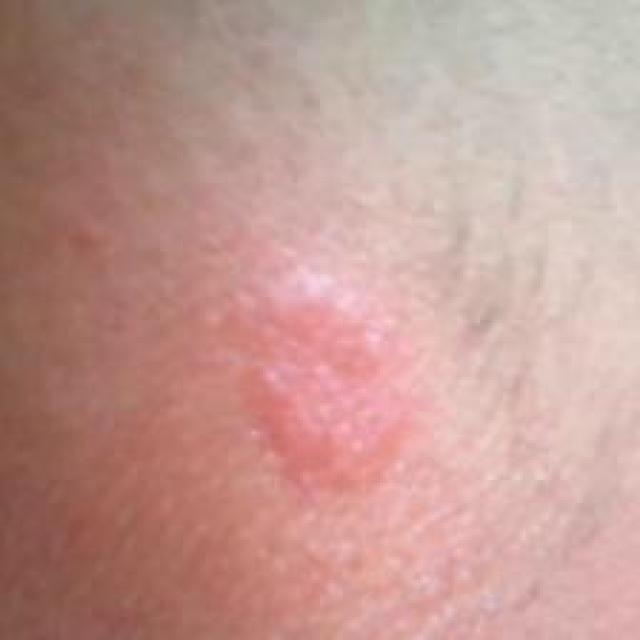sinek: (159, 237, 519, 529)
